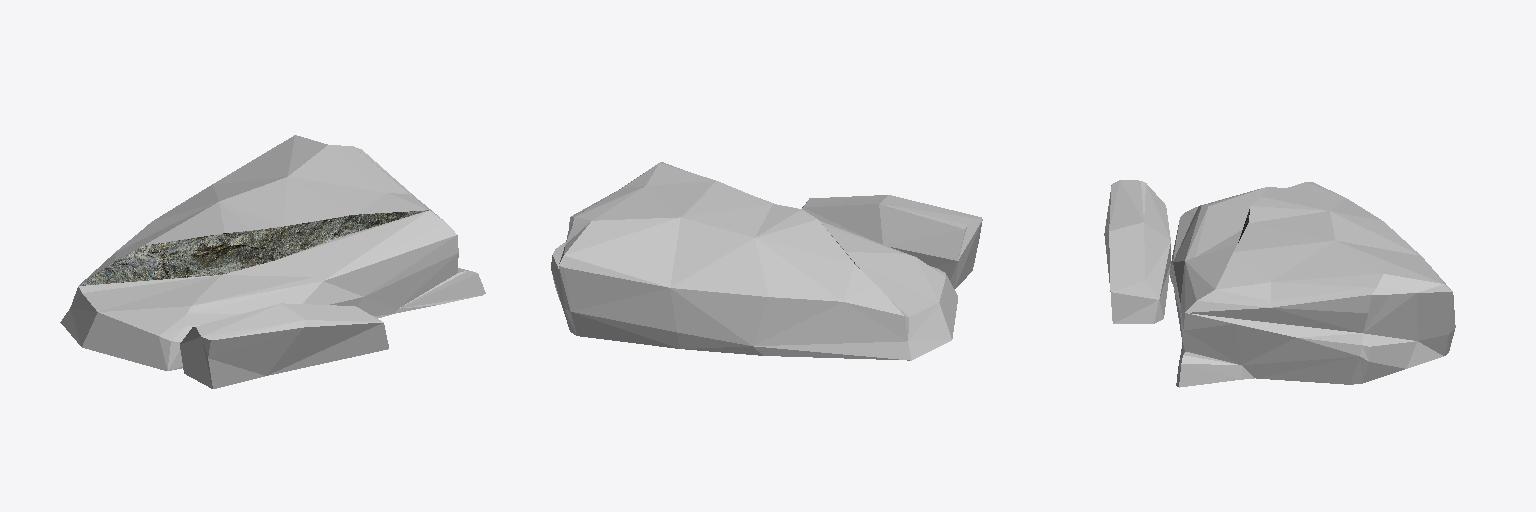
3 renders of one model, left to right at view 1: azimuth 30°, elevation 25°; view 2: azimuth 150°, elevation 25°; view 3: azimuth 270°, elevation 25°, orthographic.
Parts seen in each view (by area): view 1: outcropE; view 2: outcropE; view 3: outcropE.
Part boxes in pixels (x1,y1,x2,y2): outcropE: (60, 135, 485, 388); outcropE: (551, 162, 982, 360); outcropE: (1104, 180, 1455, 387).
Size of the model in its own units: 19.43 by 4.59 by 16.48.
2 materials, 1 textured.